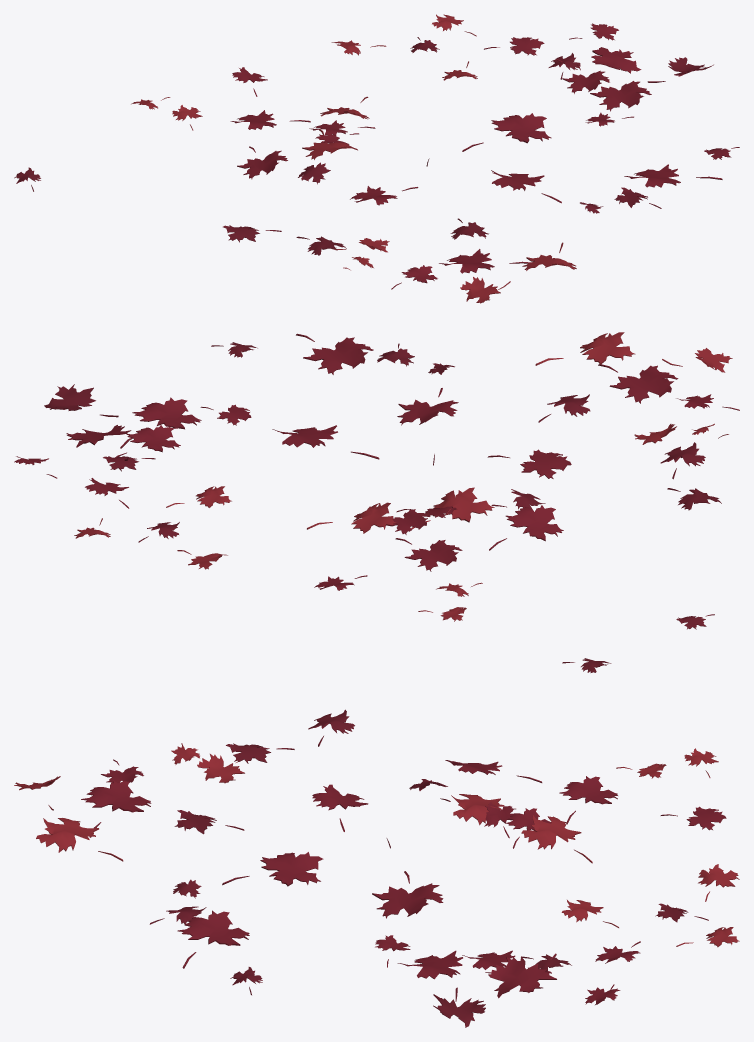
File: fallen-maple-leaves.glb
3 renders of one model, top to bottom at view 1: azimuth 30°, elevation 25°; view 2: azimuth 150°, elevation 25°; view 3: azimuth 270°, elevation 25°, orthographic. The views are drawn at different scales.
Visible parts, largest first — view 1: fallen_red_lambert11_0, fallen_yellow_lambert13_0, fallen_orange_lambert12_0; view 2: fallen_red_lambert11_0, fallen_orange_lambert12_0, fallen_yellow_lambert13_0; view 3: fallen_red_lambert11_0, fallen_orange_lambert12_0, fallen_yellow_lambert13_0.
Part boxes in pixels (x1=…): fallen_red_lambert11_0: x1=230, y1=23, x2=722, y2=289; fallen_yellow_lambert13_0: x1=14, y1=37, x2=739, y2=255; fallen_orange_lambert12_0: x1=131, y1=14, x2=576, y2=303; fallen_red_lambert11_0: x1=14, y1=333, x2=739, y2=590; fallen_orange_lambert12_0: x1=74, y1=332, x2=732, y2=621; fallen_yellow_lambert13_0: x1=44, y1=342, x2=721, y2=629; fallen_red_lambert11_0: x1=81, y1=759, x2=726, y2=1004; fallen_orange_lambert12_0: x1=14, y1=743, x2=739, y2=947; fallen_yellow_lambert13_0: x1=149, y1=658, x2=708, y2=1027.
Bounding box in the file's own units: 2.62 × 0.0678 × 2.19.
